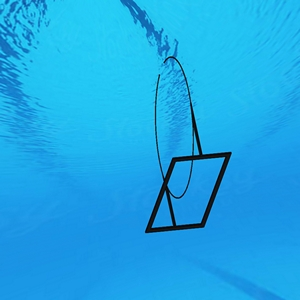circle: (142, 55, 233, 233)
